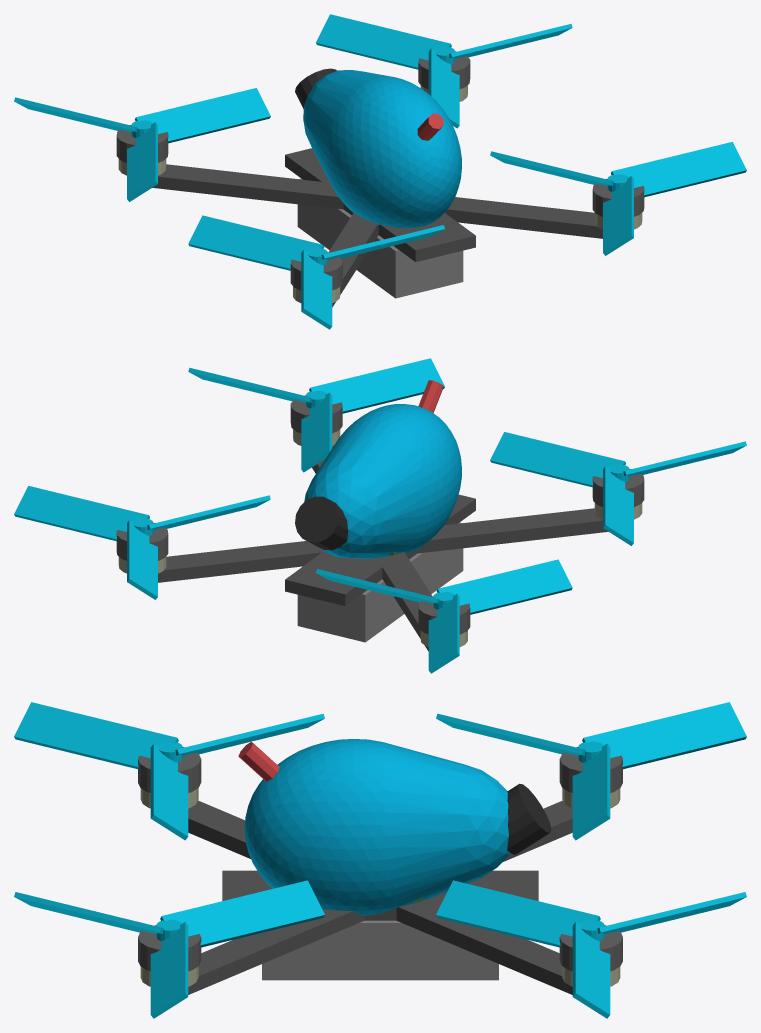
The picture shows the model from 3 angles, top to bottom: view 1: azimuth 30°, elevation 25°; view 2: azimuth 150°, elevation 25°; view 3: azimuth 270°, elevation 25°; orthographic projection. The views are drawn at different scales.
Visible parts, largest first — view 1: mat_plastic_canopy, mat_carbon_frame, prop_mat_plastic_1, prop_mat_plastic_2, prop_mat_plastic_0, prop_mat_plastic_3, mat_batt_body, mat_metal_bell_1, mat_metal_bell_3, mat_metal_bell_0, mat_metal_bell_2, mat_plastic_lensbarrel; view 2: mat_plastic_canopy, mat_carbon_frame, prop_mat_plastic_2, prop_mat_plastic_1, prop_mat_plastic_3, prop_mat_plastic_0, mat_batt_body, mat_plastic_lensbarrel, mat_metal_bell_2, mat_metal_bell_0, mat_metal_bell_3, mat_metal_bell_1; view 3: mat_plastic_canopy, mat_carbon_frame, prop_mat_plastic_0, prop_mat_plastic_3, prop_mat_plastic_1, prop_mat_plastic_2, mat_batt_body, mat_plastic_lensbarrel, mat_metal_bell_0, mat_metal_bell_1, mat_metal_bell_2, mat_metal_bell_3 (+1 smaller).
Boxes of the visible parts, box(x1,y1,x2,y2) form: mat_plastic_canopy: box(303, 70, 461, 227); mat_carbon_frame: box(152, 148, 602, 307); prop_mat_plastic_1: box(188, 215, 444, 329); prop_mat_plastic_2: box(14, 88, 270, 201); prop_mat_plastic_0: box(490, 142, 746, 255); prop_mat_plastic_3: box(316, 14, 572, 128); mat_batt_body: box(297, 178, 463, 298); mat_metal_bell_1: box(290, 252, 342, 290); mat_metal_bell_3: box(418, 51, 470, 89); mat_metal_bell_0: box(592, 178, 644, 216); mat_metal_bell_2: box(116, 125, 168, 162); mat_plastic_lensbarrel: box(295, 68, 336, 108); mat_plastic_canopy: box(304, 404, 461, 558); mat_carbon_frame: box(158, 445, 608, 651); prop_mat_plastic_2: box(316, 559, 572, 673); prop_mat_plastic_1: box(490, 432, 746, 545); prop_mat_plastic_3: box(14, 486, 270, 599); prop_mat_plastic_0: box(188, 358, 444, 472); mat_batt_body: box(297, 522, 463, 642); mat_plastic_lensbarrel: box(295, 496, 348, 550); mat_metal_bell_2: box(418, 596, 470, 634); mat_metal_bell_0: box(290, 395, 342, 433); mat_metal_bell_3: box(116, 522, 168, 560); mat_metal_bell_1: box(592, 469, 644, 506); mat_plastic_canopy: box(244, 739, 509, 915); mat_carbon_frame: box(188, 800, 572, 994); prop_mat_plastic_0: box(14, 880, 324, 1018); prop_mat_plastic_3: box(436, 880, 746, 1018); prop_mat_plastic_1: box(14, 702, 324, 840); prop_mat_plastic_2: box(436, 702, 746, 840); mat_batt_body: box(262, 920, 498, 980); mat_plastic_lensbarrel: box(507, 783, 551, 854); mat_metal_bell_0: box(138, 925, 201, 971); mat_metal_bell_1: box(138, 747, 201, 792); mat_metal_bell_2: box(559, 747, 622, 792); mat_metal_bell_3: box(559, 925, 622, 971).
Bounding box in the file's own units: 0.1311 × 0.0454 × 0.139.
